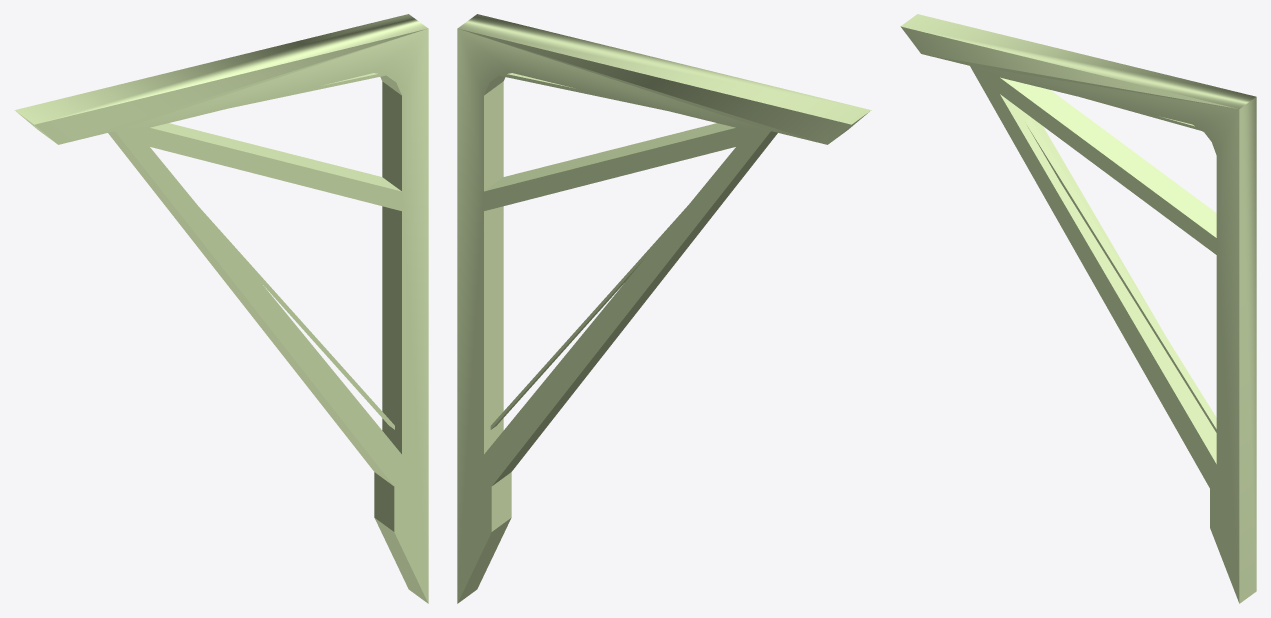
File: arch02a.fbx
3 renders of one model, left to right at view 1: azimuth 30°, elevation 25°; view 2: azimuth 150°, elevation 25°; view 3: azimuth 330°, elevation 25°, orthographic. The views are drawn at different scales.
Visible parts, largest first — view 1: arch02a_reference; view 2: arch02a_reference; view 3: arch02a_reference.
Boxes of the visible parts, bbox=[...] form: arch02a_reference: bbox=[14, 14, 428, 603]; arch02a_reference: bbox=[457, 14, 871, 603]; arch02a_reference: bbox=[900, 14, 1256, 603].
Size of the model in its own units: 9177 by 12800 by 800.
